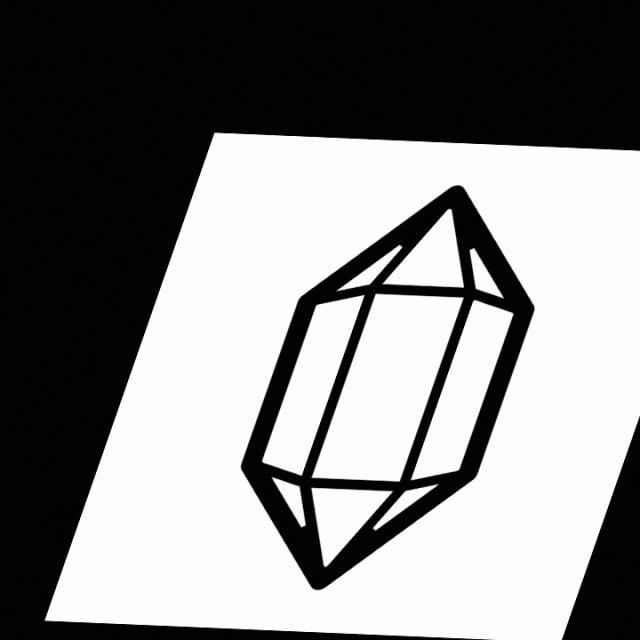crystal: (231, 179, 543, 600)
